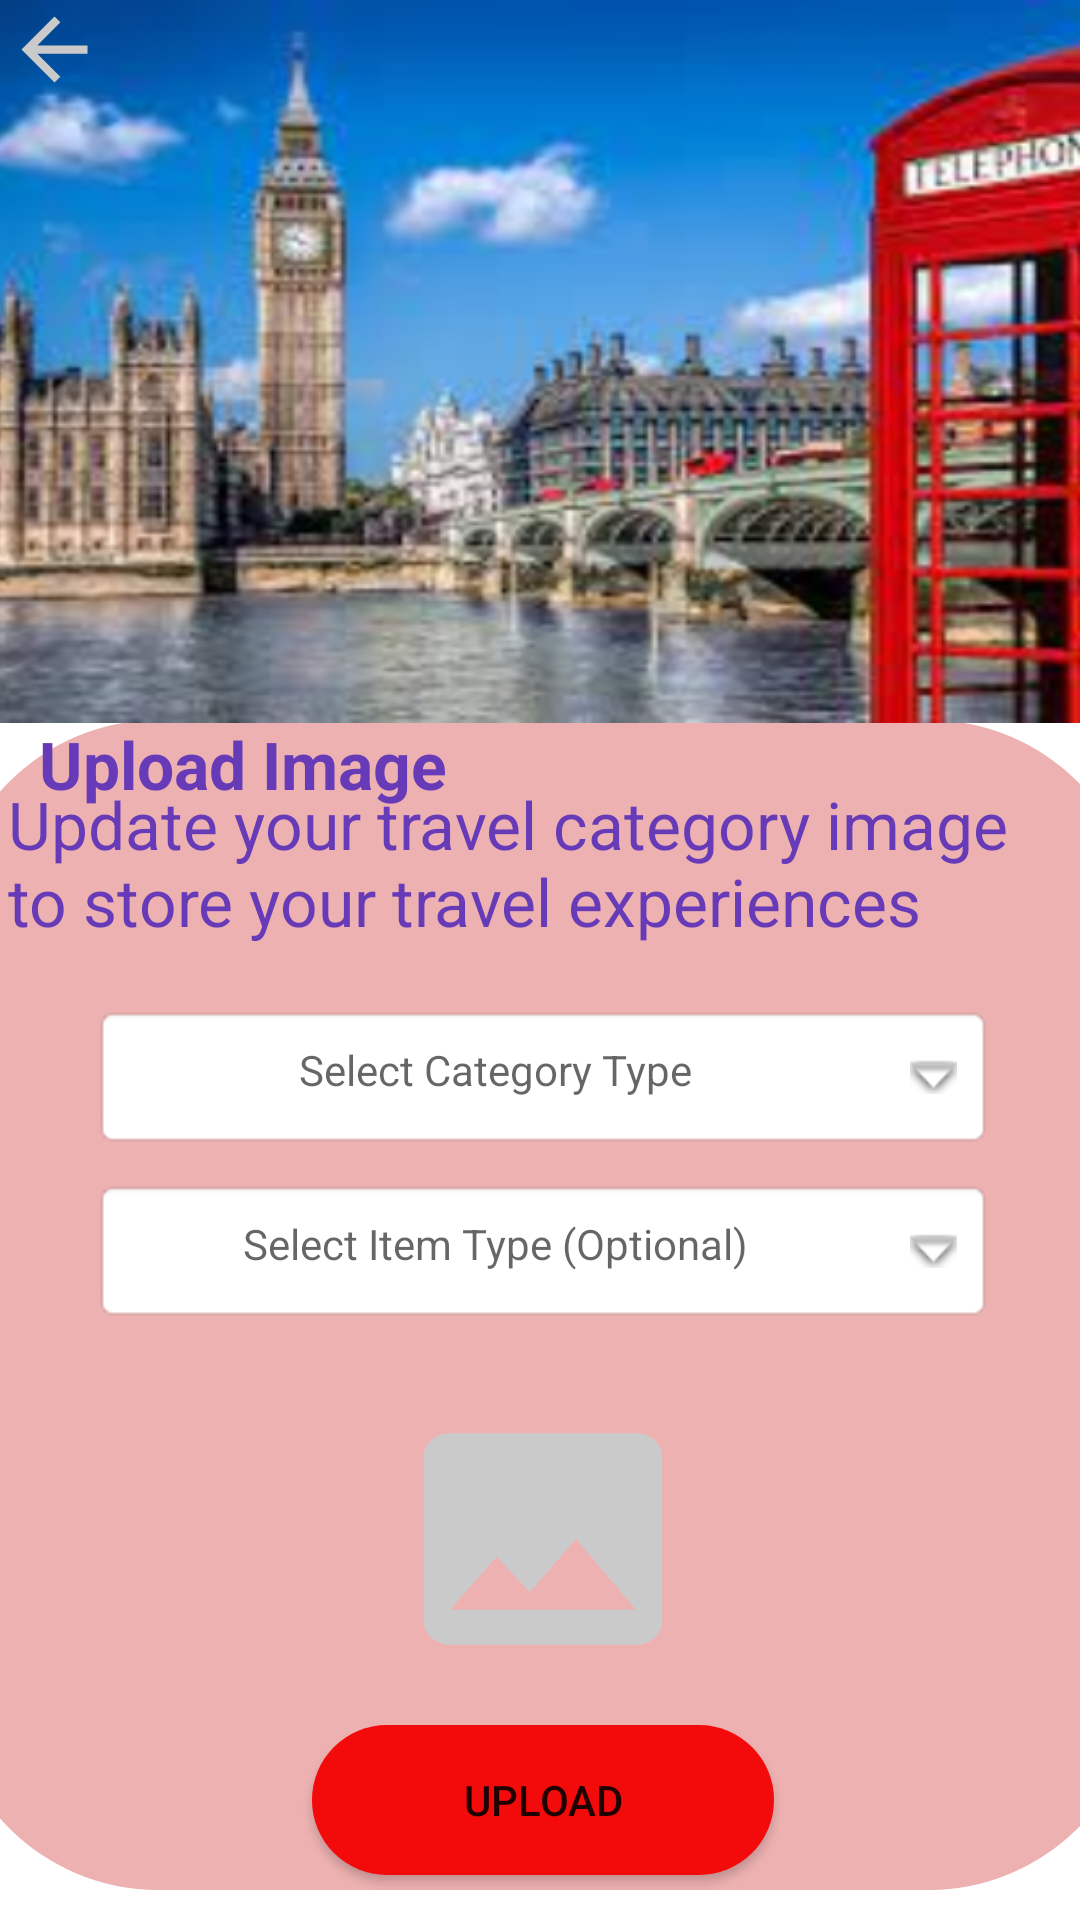

Icon click points for this 1080 × 1920 phone screenshot, format point (x, y):
arrow back: point (54, 49)
